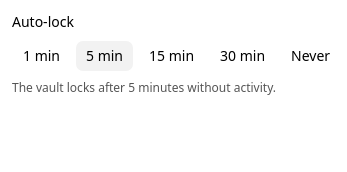
Test case: AutoLockSetting saving › keeps the old choice and shows the error when saving fails
The image size is (347, 172).
Click the button "30 min".
click(242, 56)  # box [209,40,276,72]
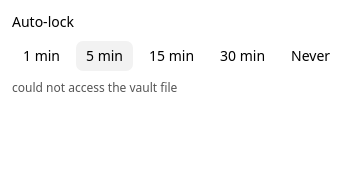
Check: the text "could not access the vault file" is shown, box [12,79,177,96]
